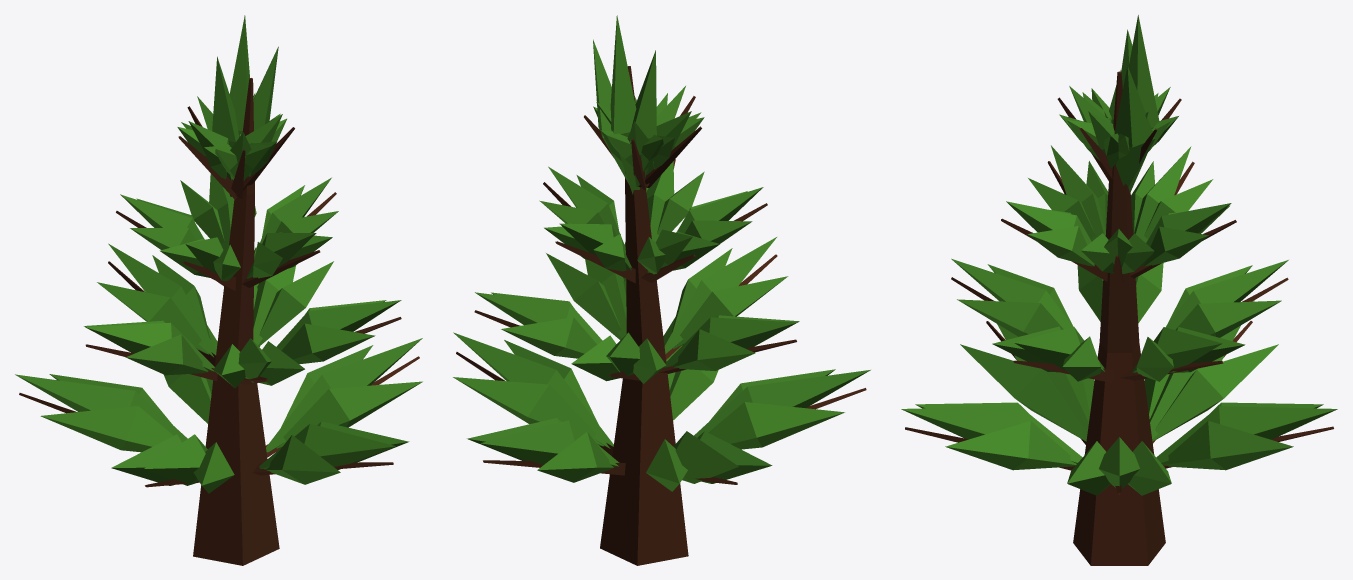
Rendered from N13_Pine_Top.fbx.
3 renders of one model, left to right at view 1: azimuth 30°, elevation 25°; view 2: azimuth 150°, elevation 25°; view 3: azimuth 270°, elevation 25°, orthographic. The views are drawn at different scales.
Visible parts, largest first — view 1: N13_Pine_Top; view 2: N13_Pine_Top; view 3: N13_Pine_Top.
Part boxes in pixels (bbox=[...]): N13_Pine_Top: bbox=[15, 15, 422, 565]; N13_Pine_Top: bbox=[453, 15, 870, 565]; N13_Pine_Top: bbox=[901, 15, 1337, 565].
Bounding box in the file's own units: 0.7853 × 1.12 × 0.8169.
Materials: 2 (2 with a texture image).
